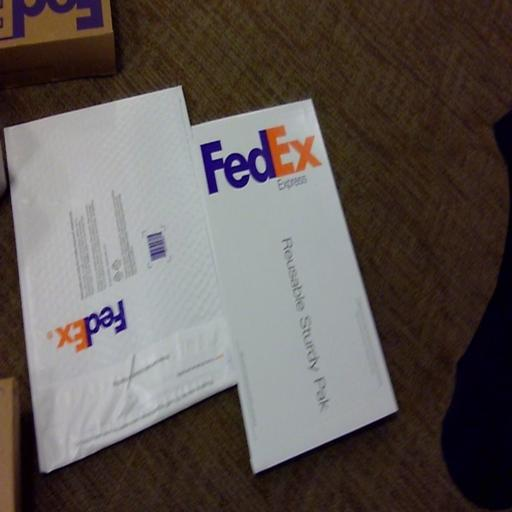Amazon: (1, 118, 220, 456), (196, 107, 393, 456), (0, 0, 125, 82)
